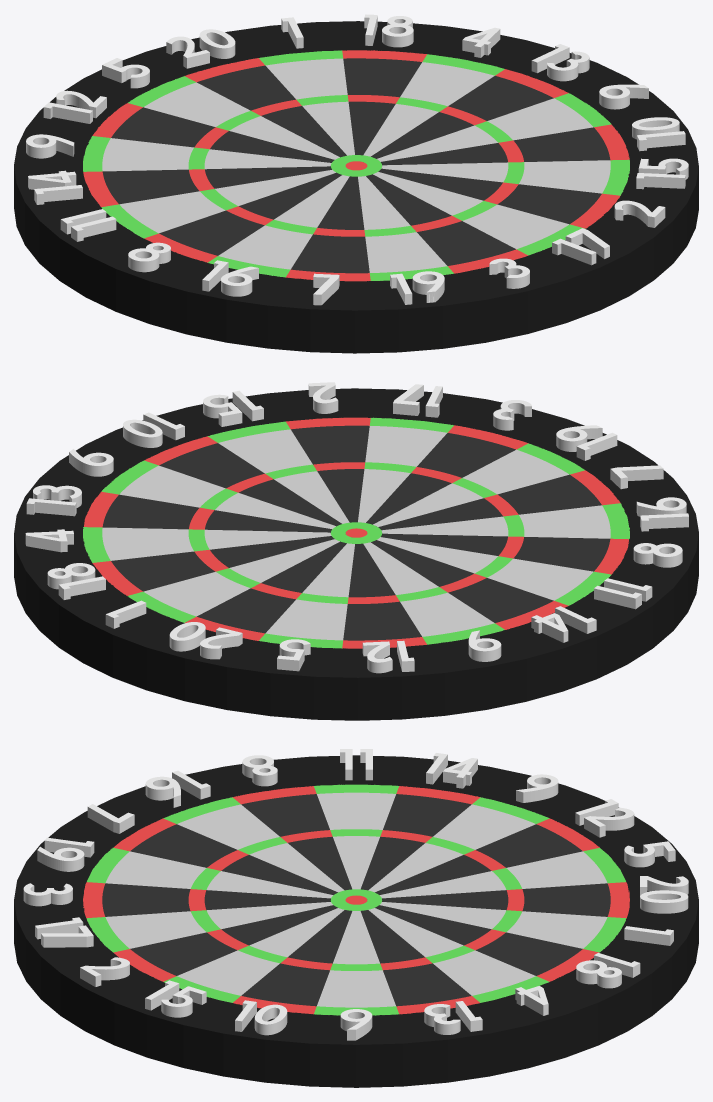
Rendered from dartboardmodel.fbx.
3 renders of one model, top to bottom at view 1: azimuth 30°, elevation 25°; view 2: azimuth 150°, elevation 25°; view 3: azimuth 270°, elevation 25°, orthographic.
Visible parts, largest first — view 1: Curve, Curve.079, Curve.059, Curve.067, Curve.087, Curve.099, Curve.095, Curve.055, Curve.039, Curve.043, Curve.063, Curve.091 (+76 smaller); view 2: Curve, Curve.063, Curve.083, Curve.047, Curve.055, Curve.075, Curve.043, Curve.051, Curve.079, Curve.095, Curve.099, Curve.111 (+77 smaller); view 3: Curve, Curve.091, Curve.035, Curve.071, Curve.079, Curve.103, Curve.039, Curve.063, Curve.075, Curve.107, Curve.051, Curve.083 (+76 smaller).
Boxes of the visible parts, x1,y1,x2,y2 form: Curve: (14, 21, 698, 353); Curve.079: (291, 234, 369, 273); Curve.059: (519, 160, 610, 193); Curve.067: (463, 204, 568, 249); Curve.087: (159, 210, 264, 255); Curve.099: (102, 138, 193, 171); Curve.095: (102, 169, 199, 204); Curve.055: (513, 127, 610, 161); Curve.039: (343, 58, 421, 97); Curve.043: (400, 62, 494, 106); Curve.063: (497, 184, 601, 224); Curve.091: (119, 191, 225, 233); Curve: (14, 388, 698, 720); Curve.063: (291, 425, 369, 464); Curve.083: (519, 505, 610, 538); Curve.047: (102, 494, 199, 529); Curve.055: (159, 443, 264, 488); Curve.075: (462, 449, 568, 494); Curve.043: (102, 527, 193, 560); Curve.051: (119, 465, 225, 507); Curve.079: (497, 474, 601, 514); Curve.095: (448, 578, 553, 622); Curve.099: (400, 592, 494, 636); Curve.111: (143, 572, 250, 616); Curve: (14, 755, 698, 1087); Curve.091: (317, 792, 395, 829); Curve.035: (522, 883, 610, 916); Curve.071: (102, 883, 190, 916); Curve.079: (130, 824, 236, 867); Curve.103: (476, 824, 582, 867); Curve.039: (475, 932, 582, 975); Curve.063: (130, 932, 237, 975); Curve.075: (105, 851, 206, 888); Curve.107: (506, 851, 607, 888); Curve.051: (317, 970, 395, 1007); Curve.083: (177, 804, 279, 849).
Size of the model in its own units: 28.9 by 2.5 by 28.89.
